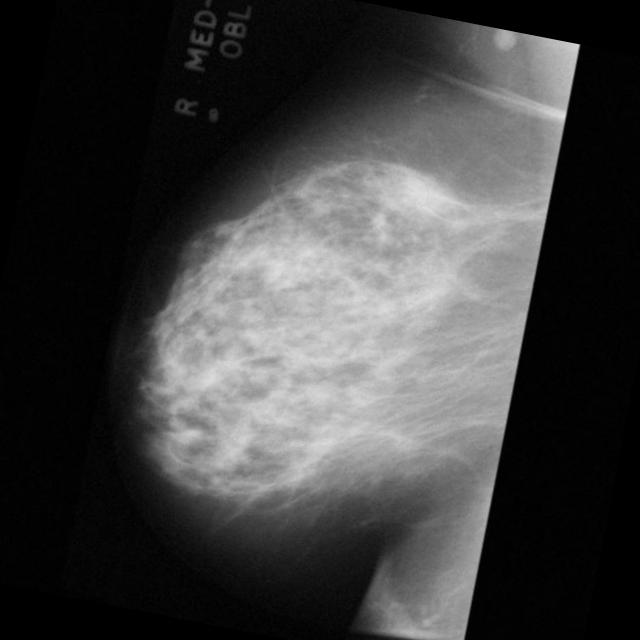MISC: (375, 146, 472, 242)
